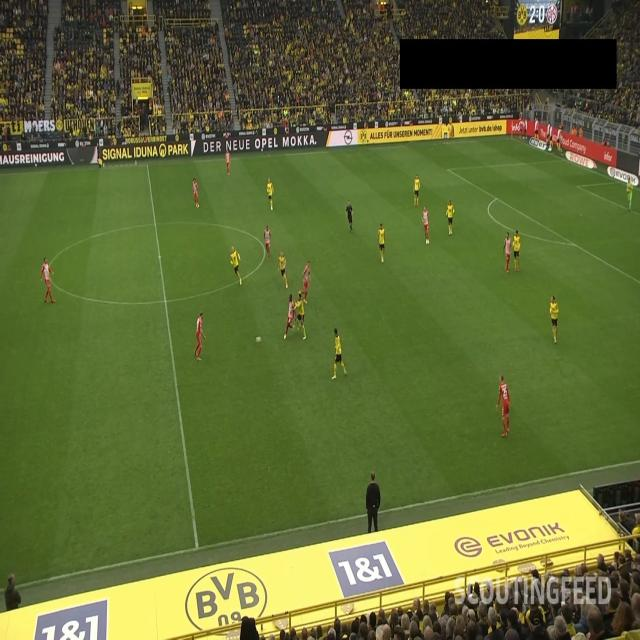ball: (254, 335, 262, 344)
